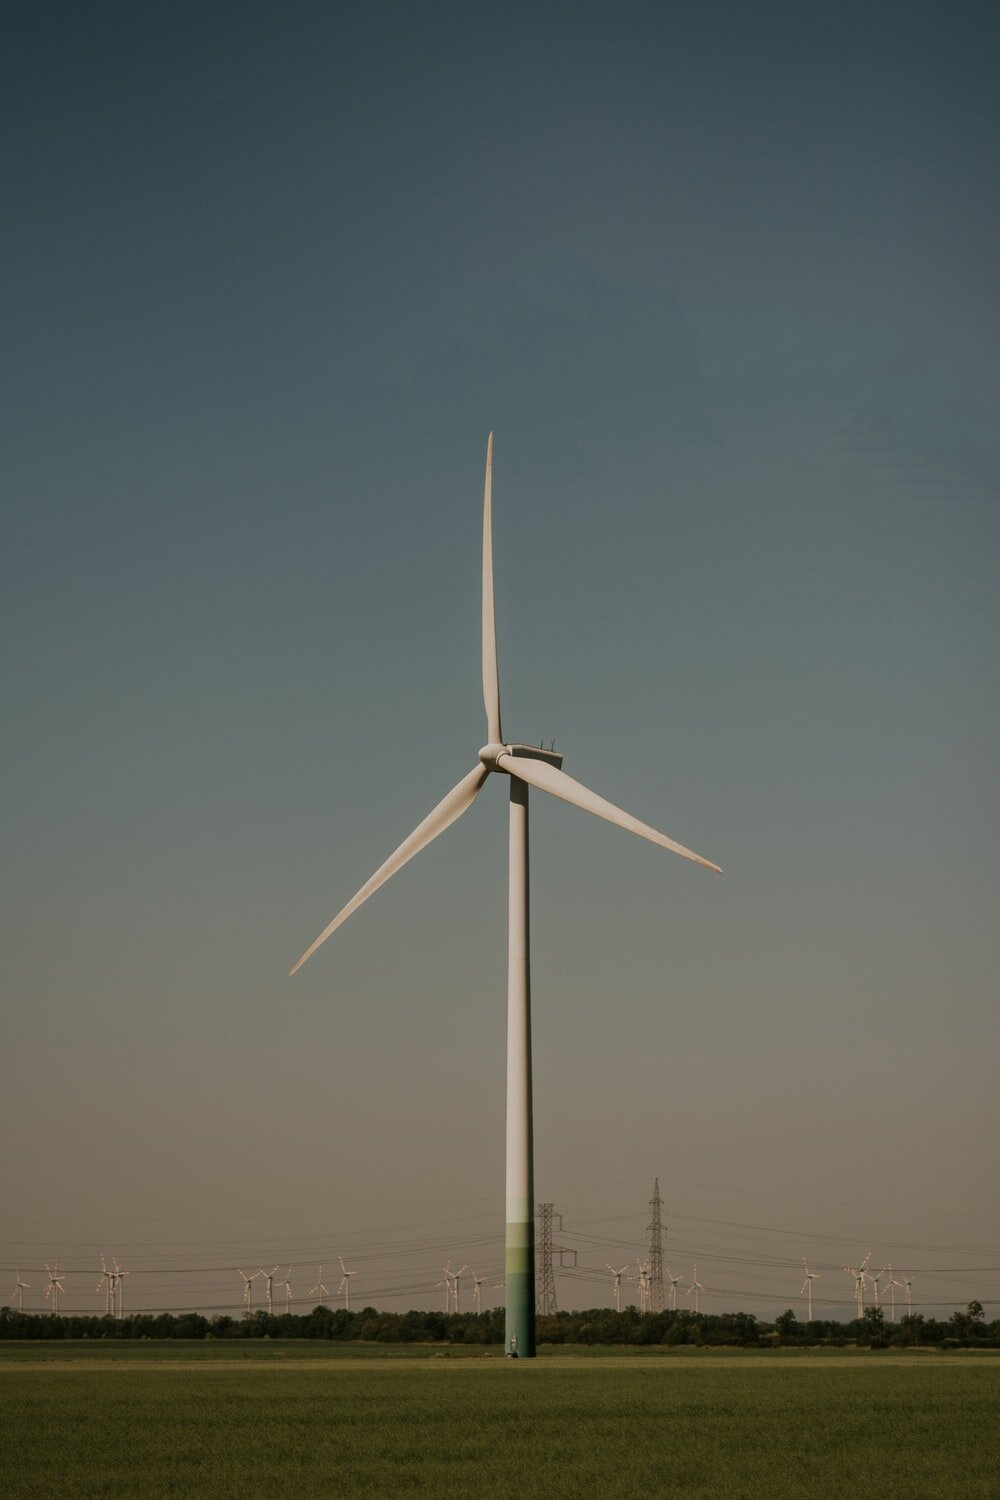working: (283, 423, 743, 1098)
